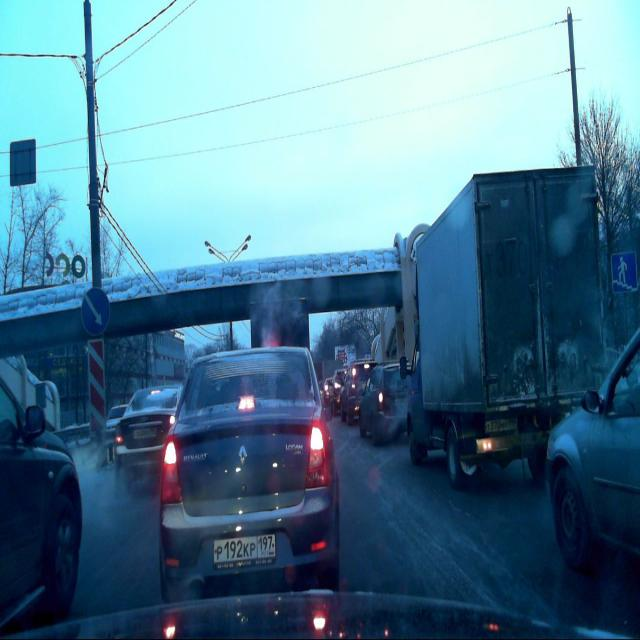object: (89, 341, 106, 436)
road sign: (610, 251, 638, 297)
